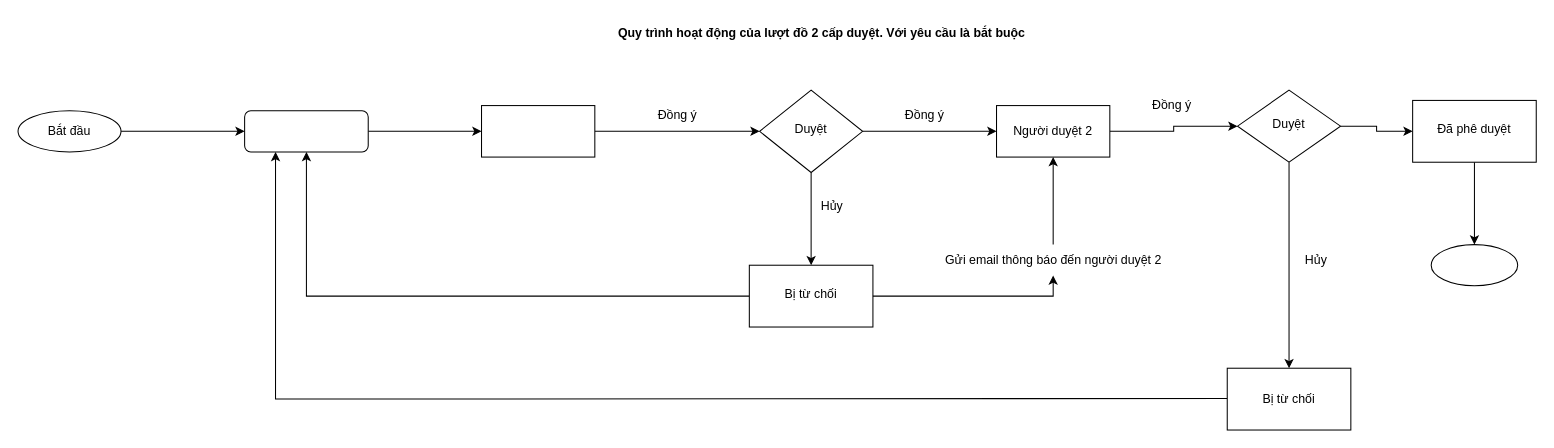
Some shapes in this 1554 by 448 pixel diagram are drawn without their labels. Here are the shapes that lost their labels. From the top down, the centre of each, then its label:
pixel 306 131: Tờ trình mua thiết bị
pixel 537 131: Người duyệt 1
pixel 1474 265: Kết thúc
